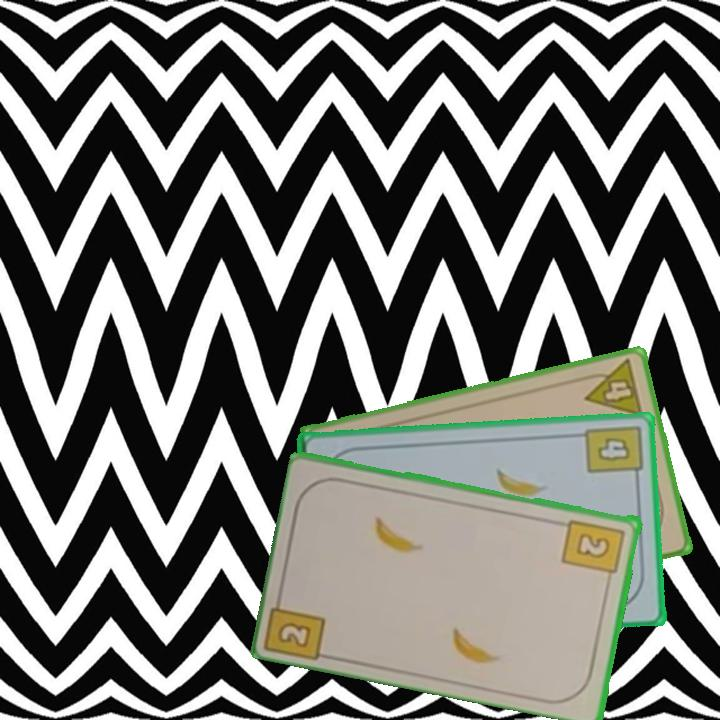2b: (559, 515, 628, 585), (265, 587, 329, 661)
4b: (582, 421, 645, 485)
4p: (577, 356, 646, 420)
